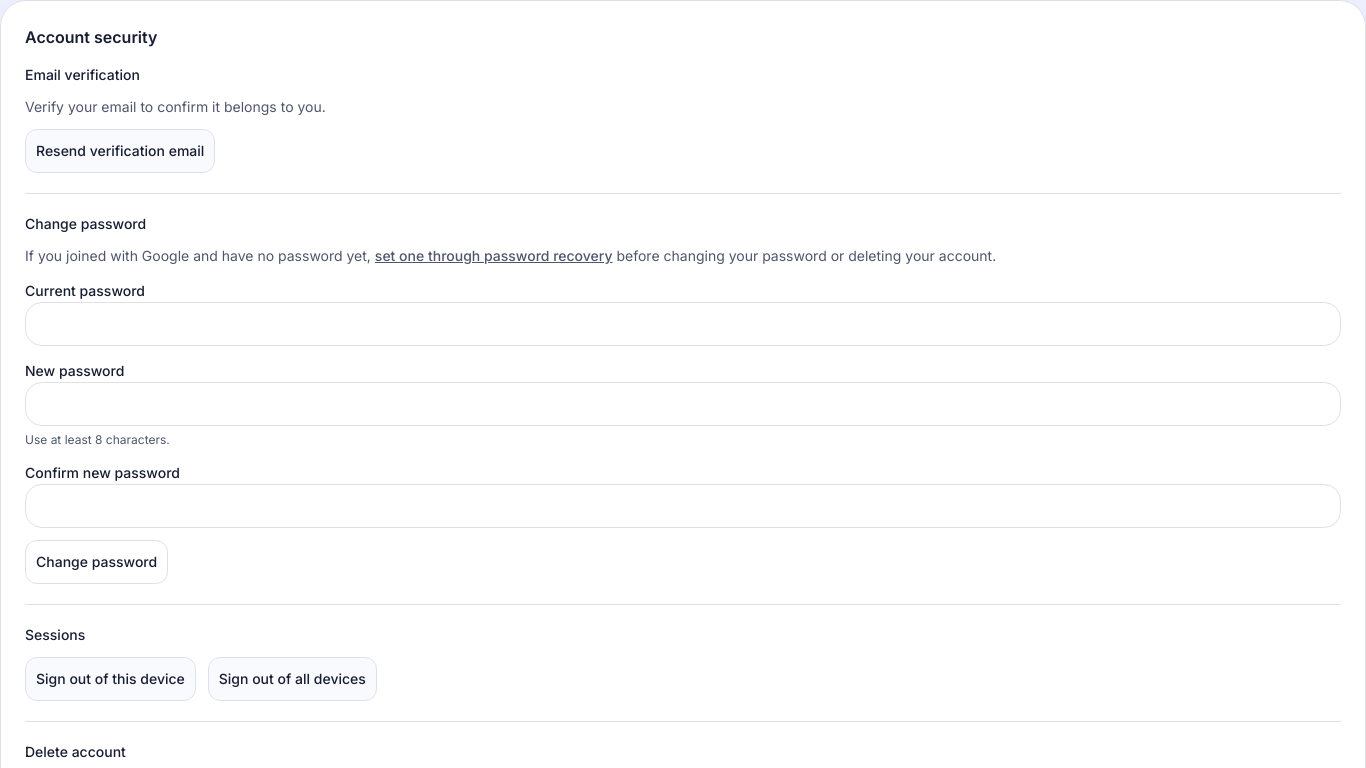
Test: account security › resends verification and shows success
The width and height of the screenshot is (1366, 768).
Click the button "Resend verification email". click: (120, 151)
box: top-left (25, 129), bottom-right (215, 173)
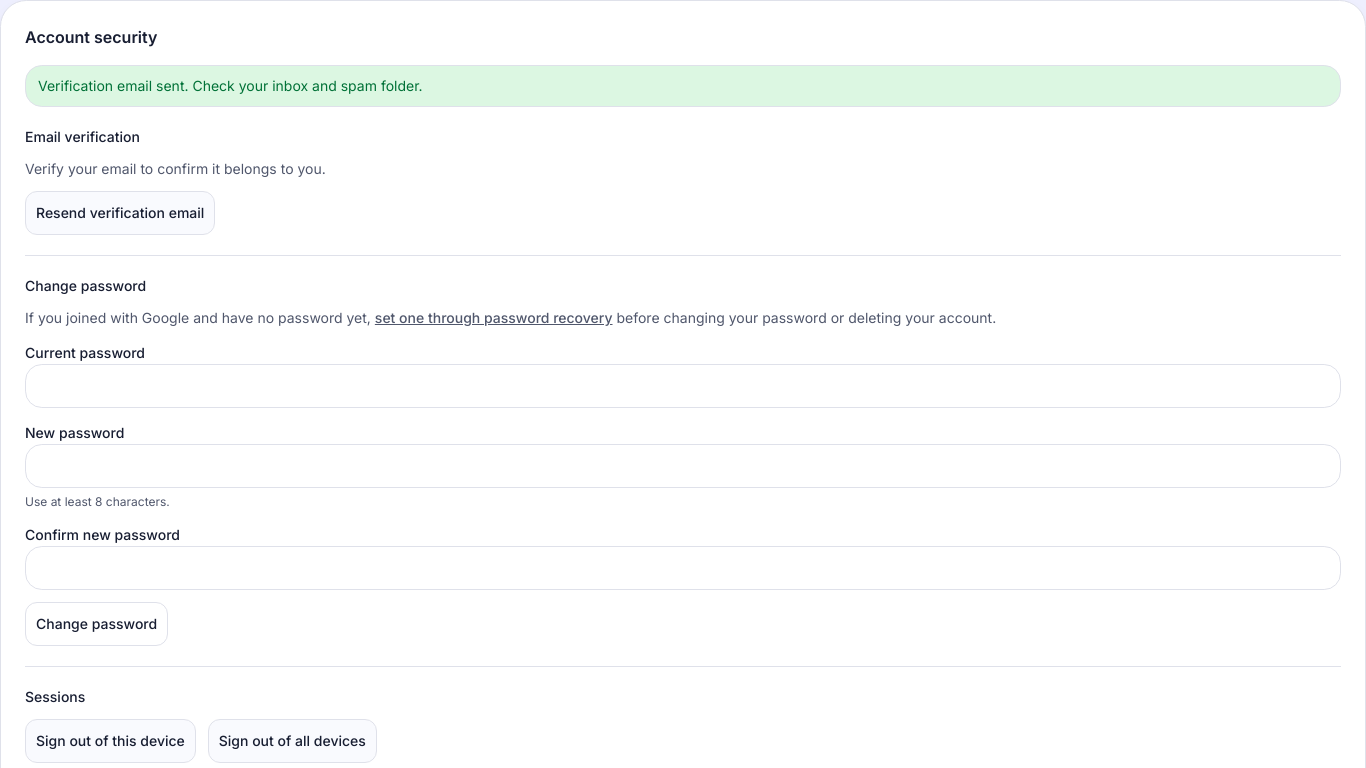
Now the text "Verification email sent. Check your inbox and spam folder." is shown, box top-left (25, 65), bottom-right (1341, 107)
